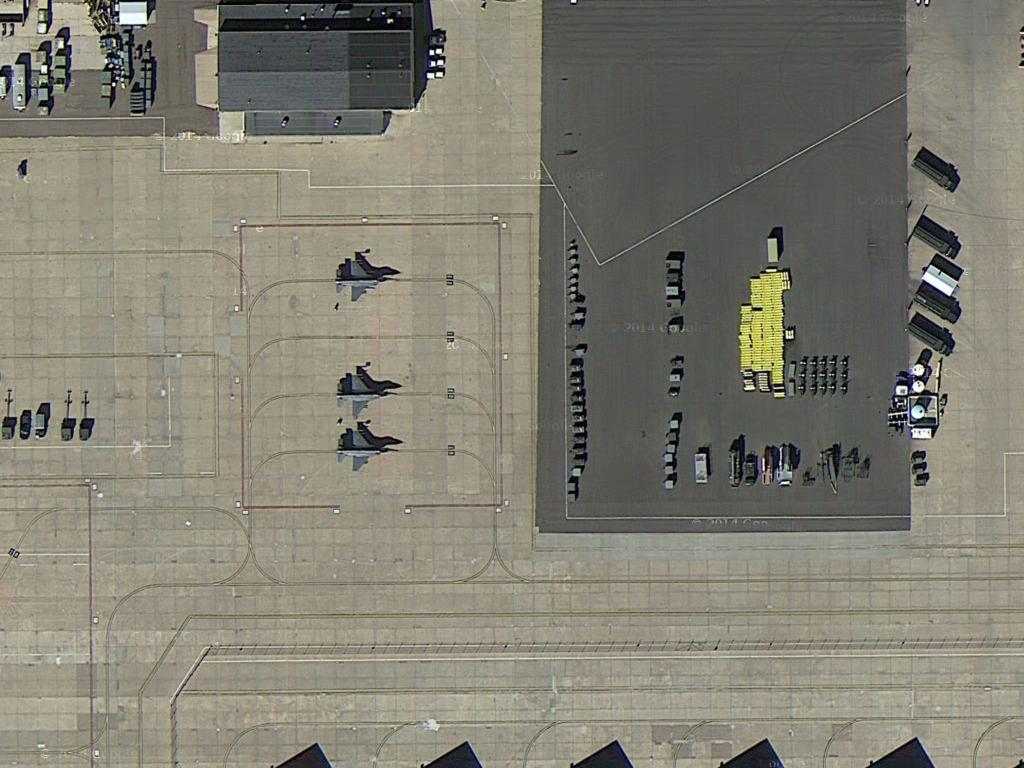F-16: (331, 421, 397, 476), (326, 370, 394, 421), (328, 255, 391, 307)
